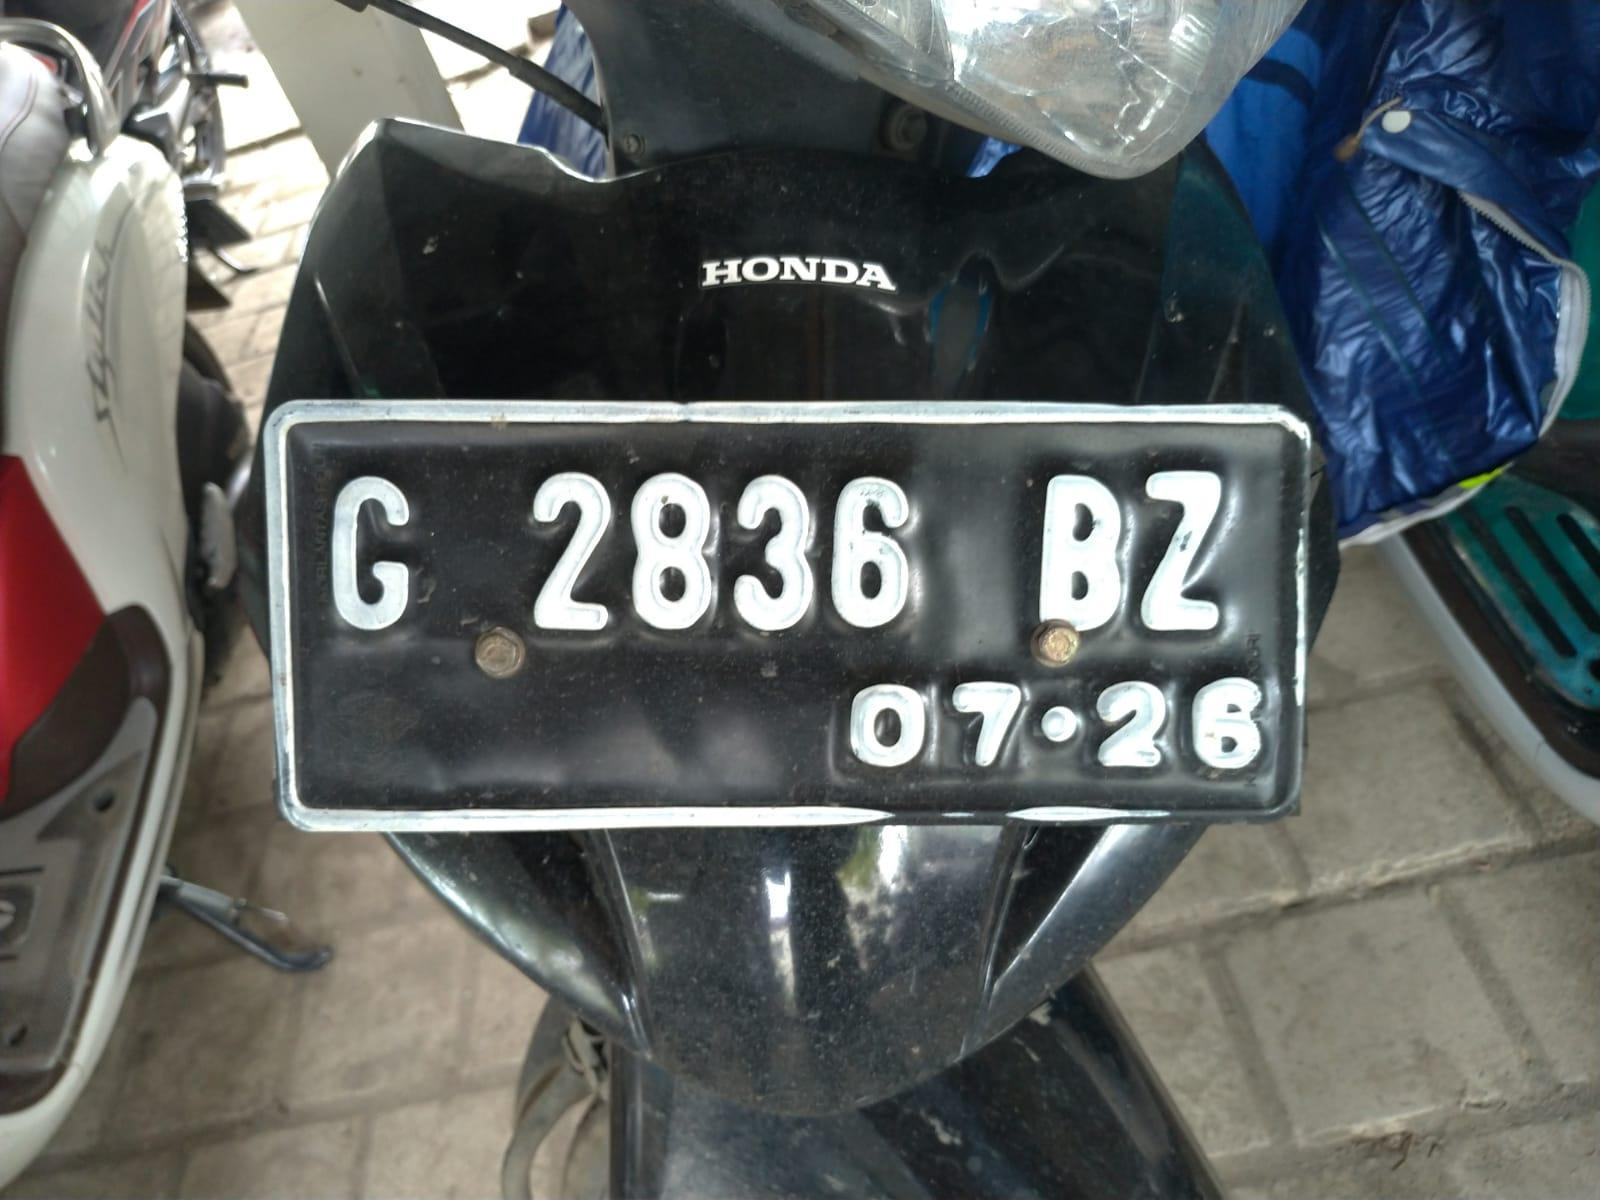clone-license-plate: (253, 400, 1309, 821)
